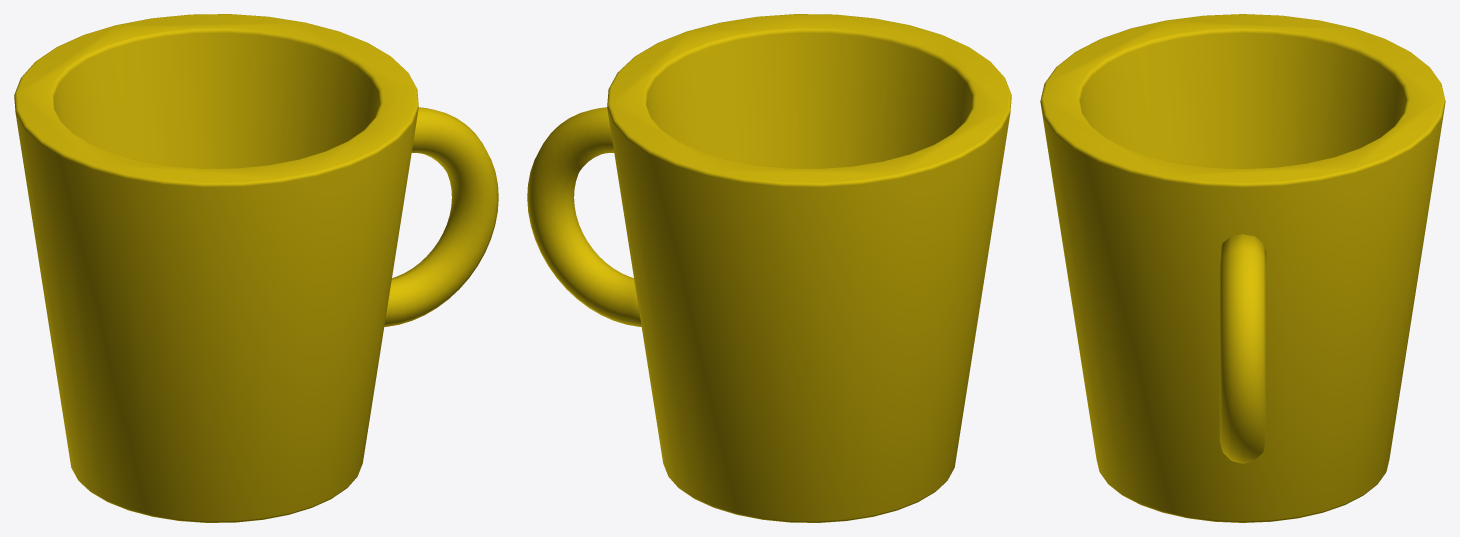
Rendered from kubek5.fbx.
3 renders of one model, left to right at view 1: azimuth 30°, elevation 25°; view 2: azimuth 150°, elevation 25°; view 3: azimuth 270°, elevation 25°, orthographic.
Visible parts, largest first — view 1: kubek.001, raczka.001; view 2: kubek.001, raczka.001; view 3: kubek.001, raczka.001.
Part boxes in pixels (left/top/right/bottom): kubek.001: left=14, top=14, right=418, bottom=522; raczka.001: left=384, top=107, right=498, bottom=326; kubek.001: left=607, top=14, right=1011, bottom=522; raczka.001: left=527, top=107, right=641, bottom=326; kubek.001: left=1040, top=14, right=1445, bottom=522; raczka.001: left=1219, top=234, right=1266, bottom=463.
Size of the model in its own units: 144 by 110 by 111.
